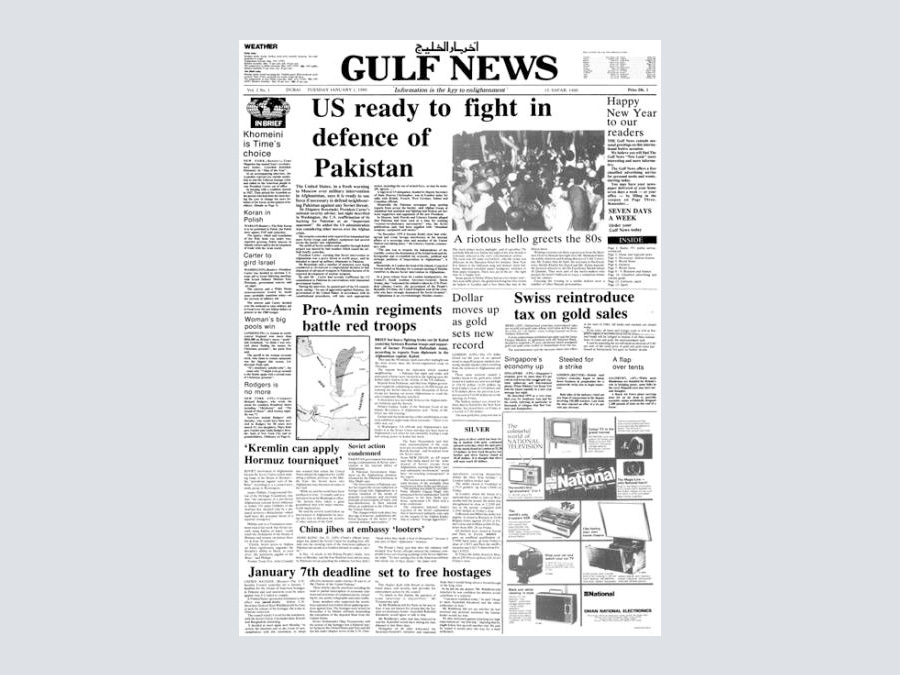news_paper: (216, 22, 722, 663)
